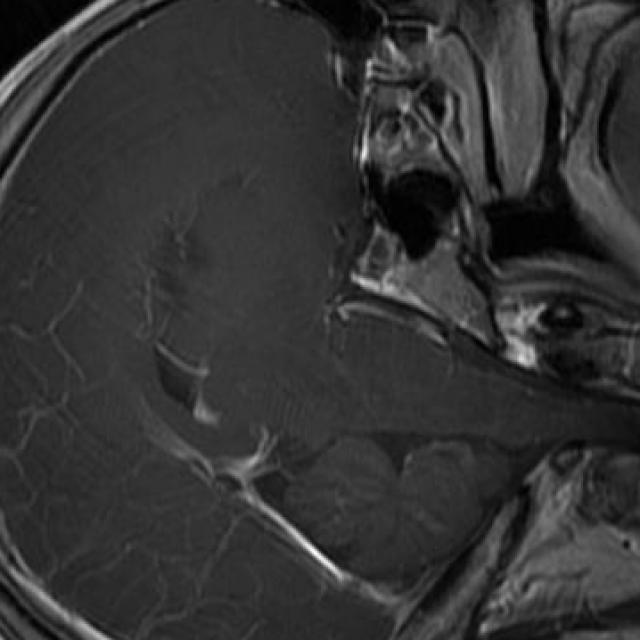glioma: (155, 176, 242, 426)
